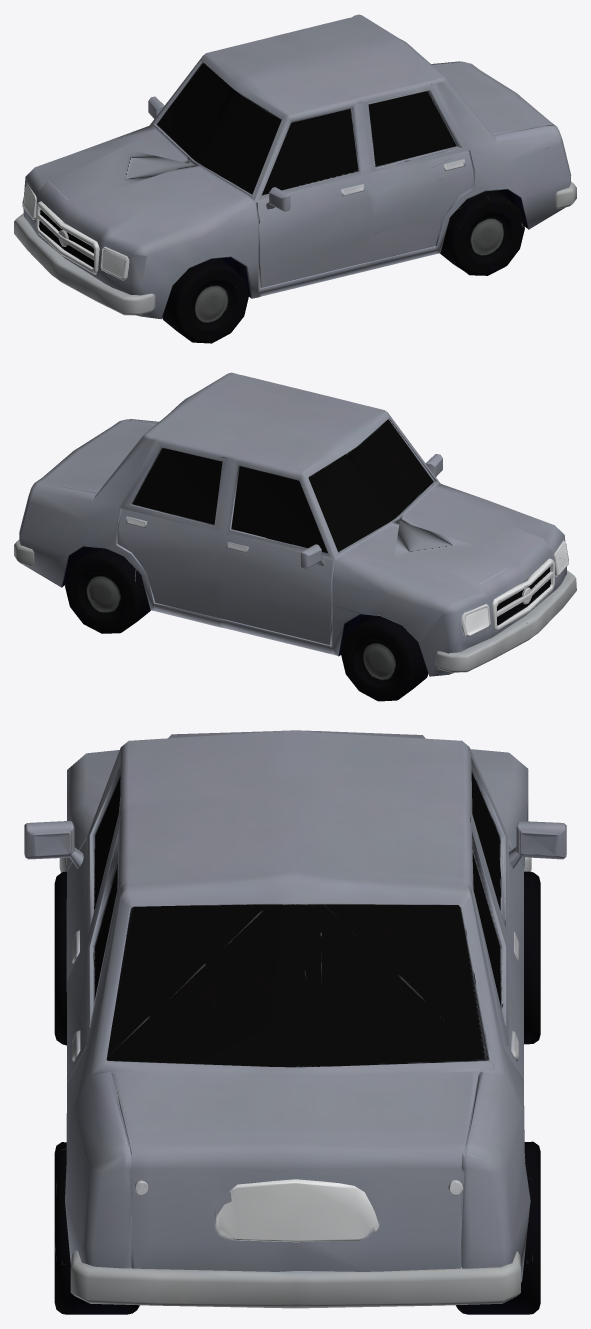
Rendered from 47-sedan-car.glb.
The picture shows the model from 3 angles, top to bottom: view 1: azimuth 30°, elevation 25°; view 2: azimuth 150°, elevation 25°; view 3: azimuth 270°, elevation 25°; orthographic projection. The views are drawn at different scales.
Visible parts, largest first — view 1: geometry_0; view 2: geometry_0; view 3: geometry_0.
Boxes of the visible parts, x1,y1,x2,y2 form: geometry_0: (14,14,576,343); geometry_0: (14,372,576,701); geometry_0: (24,730,566,1314).
Size of the model in its own units: 0.9502 by 0.3833 by 0.4692.
1 material, 1 textured.
